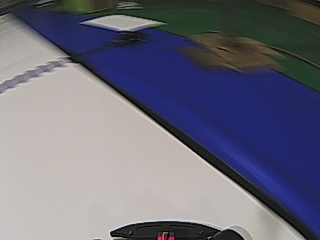CrossWalk: (4, 57, 80, 94)
